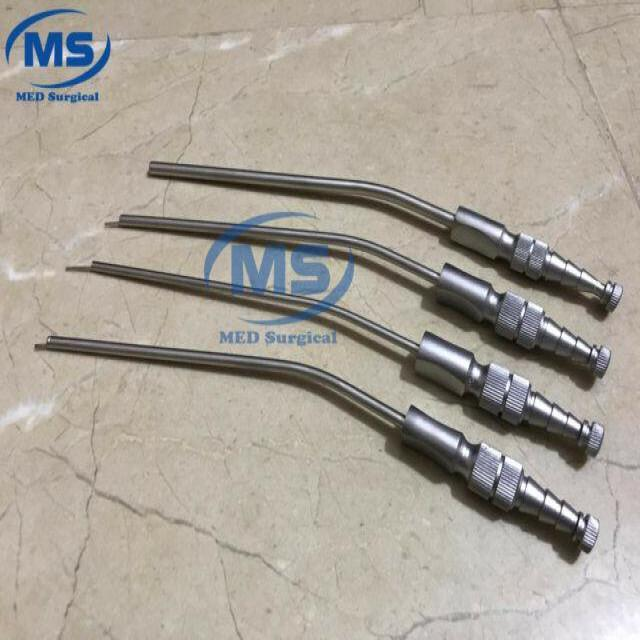Frazier: (45, 330, 601, 556), (89, 256, 606, 460), (118, 209, 614, 380), (147, 156, 622, 318)
